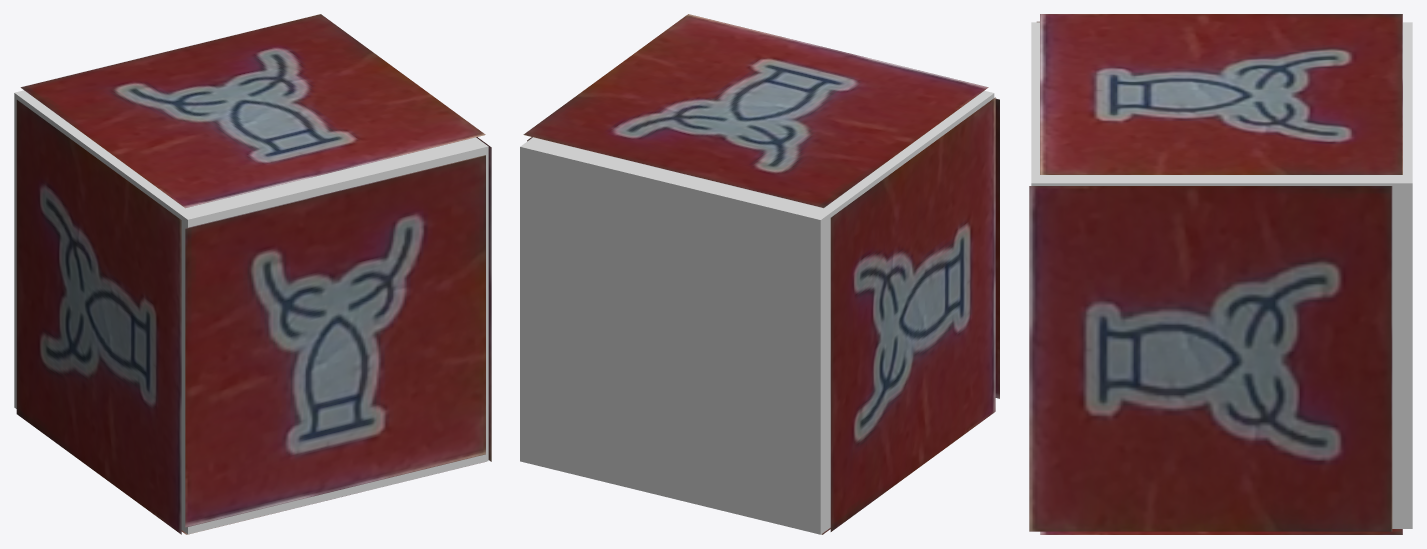
3 views of the same model, side by side, from view 1: azimuth 30°, elevation 25°; view 2: azimuth 150°, elevation 25°; view 3: azimuth 270°, elevation 25° (orthographic). The views are drawn at different scales.
Parts seen in each view (by area): view 1: R2.001, R2.002, R2, Link36, R2.004; view 2: Link36, R2.002, R2, R2.001; view 3: R2.004, R2, Link36, R2.003.
Part boxes in pixels (x1,y1,x2,y2): R2.001: (185, 155, 485, 527); R2.002: (16, 100, 181, 534); R2: (20, 14, 485, 208); Link36: (14, 90, 488, 534); R2.004: (476, 137, 491, 461); Link36: (520, 90, 994, 534); R2.002: (830, 97, 995, 531); R2: (523, 14, 988, 208); R2.001: (995, 98, 999, 398); R2.004: (1029, 186, 1392, 531); R2: (1040, 14, 1402, 174); Link36: (1031, 22, 1412, 528); R2.003: (1040, 529, 1402, 534).
Bounding box in the file's own units: 0.3578 × 0.3529 × 0.3637.
1 material, 1 textured.
